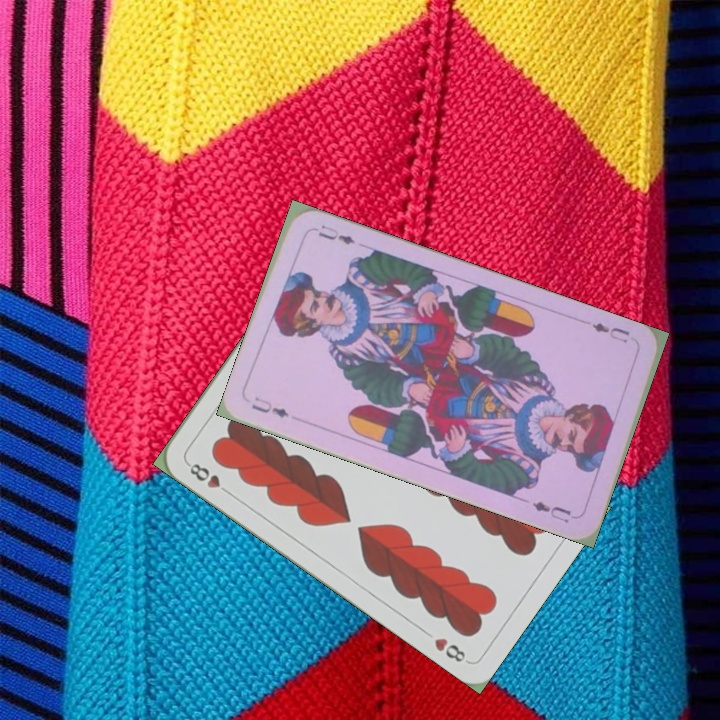EU: (247, 392, 292, 421), (588, 318, 632, 346)
H8: (183, 458, 234, 498)
